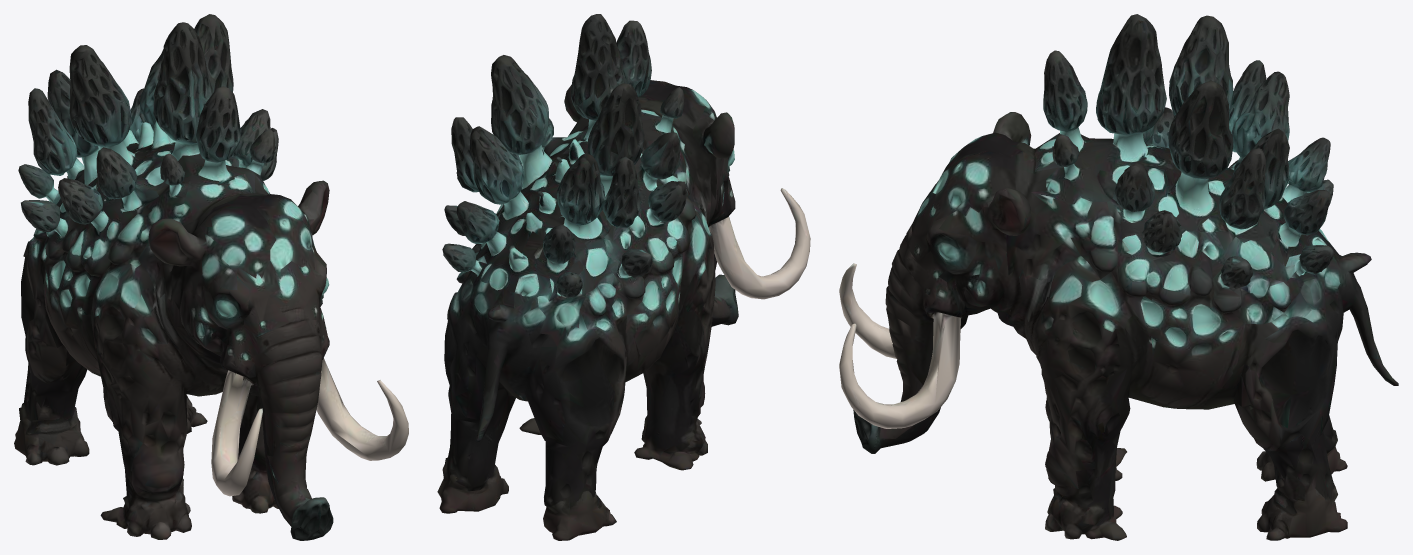
The picture shows the model from 3 angles, left to right: view 1: azimuth 30°, elevation 25°; view 2: azimuth 150°, elevation 25°; view 3: azimuth 270°, elevation 25°; orthographic projection. The views are drawn at different scales.
Visible parts, largest first — view 1: Mesh_0; view 2: Mesh_0; view 3: Mesh_0.
Boxes of the visible parts, x1,y1,x2,y2 form: Mesh_0: [14, 14, 408, 540]; Mesh_0: [437, 14, 810, 540]; Mesh_0: [839, 14, 1398, 540].
Size of the model in its own units: 0.8822 by 1.81 by 1.9.
1 material, 1 textured.
